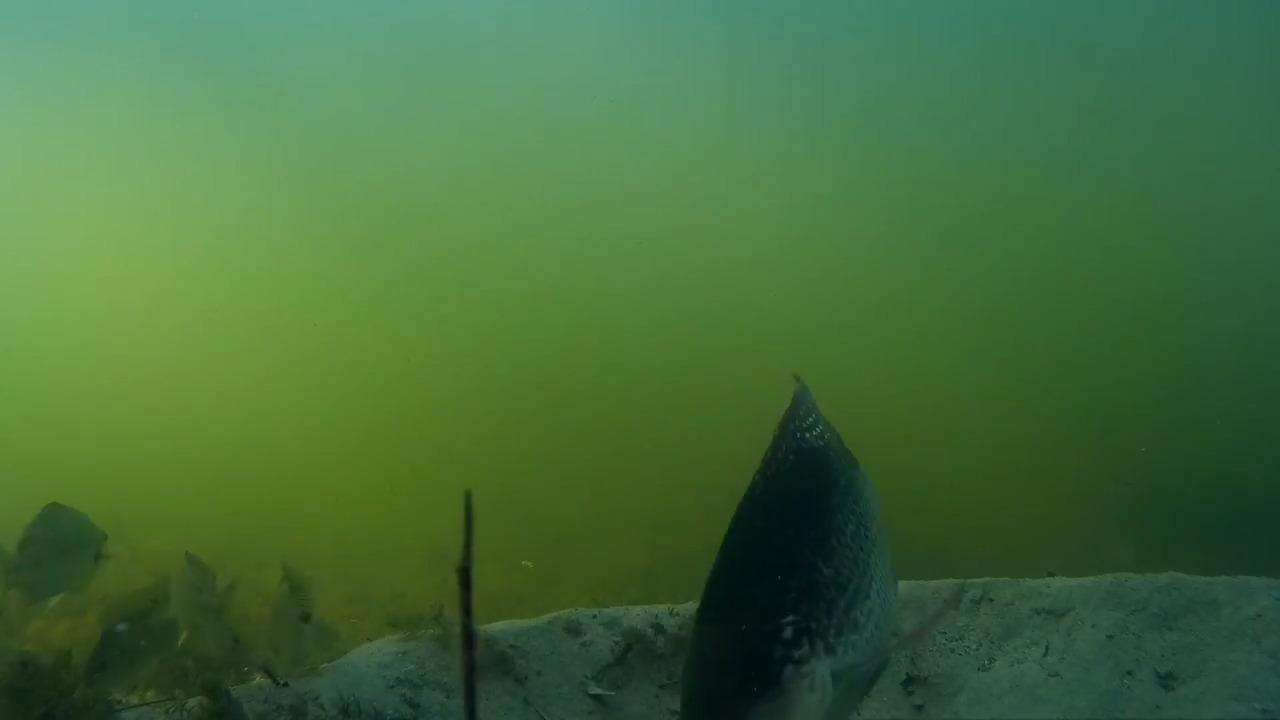Tilapia: (700, 374, 894, 707), (3, 496, 134, 710), (240, 552, 321, 682)
